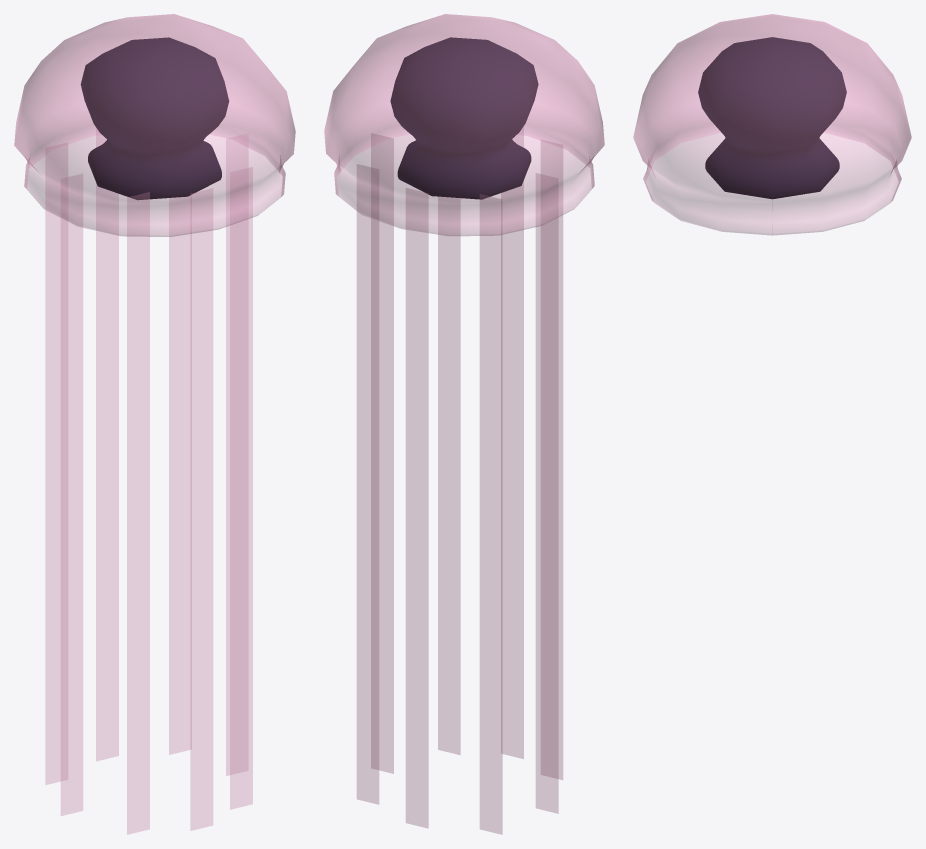
Rendered from Jellyfish_norig.fbx.
3 renders of one model, left to right at view 1: azimuth 30°, elevation 25°; view 2: azimuth 150°, elevation 25°; view 3: azimuth 270°, elevation 25°, orthographic.
Visible parts, largest first — view 1: Gonad_geo, Innard_geo, Tentacle.011, Tentacle.010, Tentacle.014, Tentacle.012, Tentacle.009, Tentacle.015, Tentacle.008, Tentacle.013; view 2: Gonad_geo, Innard_geo, Tentacle.008, Tentacle.009, Tentacle.012, Tentacle.015, Tentacle.013, Tentacle.011, Tentacle.010, Tentacle.014; view 3: Gonad_geo, Innard_geo.
Boxes of the visible parts, left/top/right/bottom form: Gonad_geo: left=14, top=14, right=295, bottom=236; Innard_geo: left=80, top=37, right=229, bottom=199; Tentacle.011: left=127, top=192, right=149, bottom=834; Tentacle.010: left=190, top=188, right=212, bottom=830; Tentacle.014: left=230, top=167, right=252, bottom=809; Tentacle.012: left=45, top=143, right=67, bottom=784; Tentacle.009: left=61, top=174, right=82, bottom=815; Tentacle.015: left=226, top=134, right=248, bottom=775; Tentacle.008: left=96, top=128, right=118, bottom=761; Tentacle.013: left=169, top=196, right=191, bottom=754; Gonad_geo: left=324, top=14, right=604, bottom=235; Innard_geo: left=390, top=37, right=538, bottom=199; Tentacle.008: left=406, top=188, right=428, bottom=828; Tentacle.009: left=536, top=173, right=558, bottom=813; Tentacle.012: left=480, top=194, right=502, bottom=834; Tentacle.015: left=371, top=133, right=393, bottom=773; Tentacle.013: left=357, top=164, right=378, bottom=804; Tentacle.011: left=541, top=140, right=562, bottom=779; Tentacle.010: left=501, top=127, right=523, bottom=758; Tentacle.014: left=438, top=197, right=460, bottom=754; Gonad_geo: left=633, top=14, right=911, bottom=235; Innard_geo: left=698, top=37, right=846, bottom=199.
Bounding box in the file's own units: 236 × 709 × 236.
